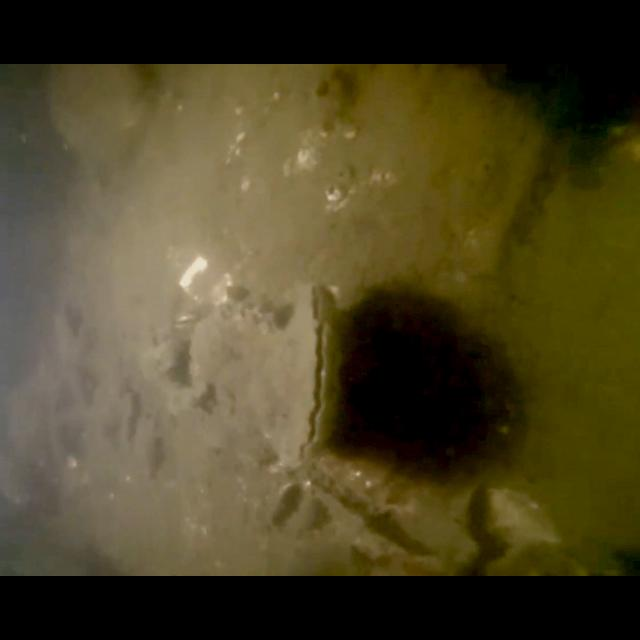Oyster-Open: (248, 280, 348, 470), (188, 300, 282, 452)
